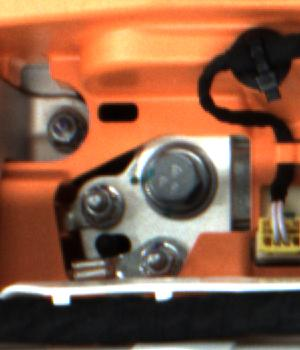nut_b: (131, 140, 221, 223)
